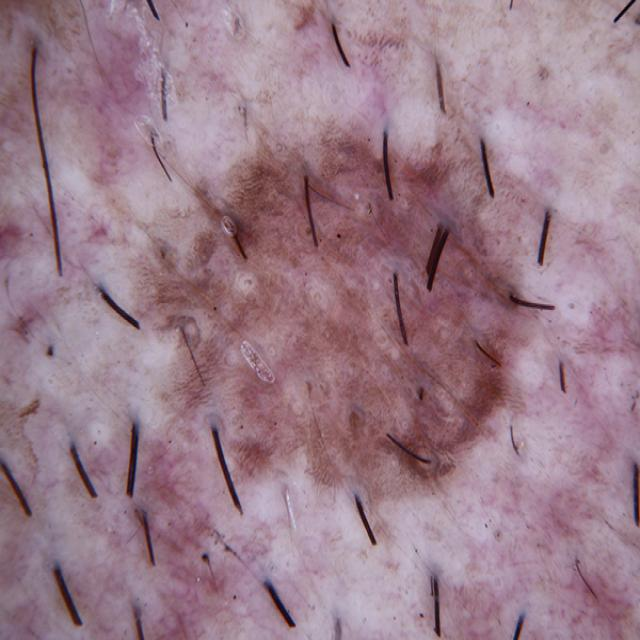Skin-Cancer Pigmented benign keratosis: (15, 15, 612, 640)
